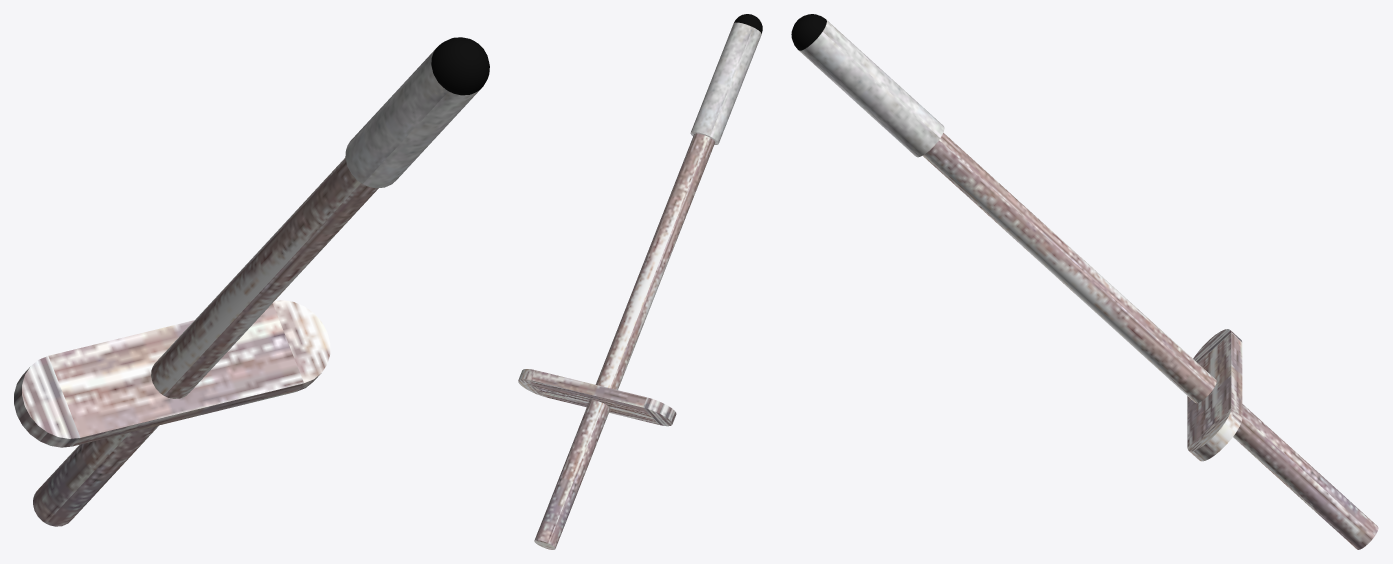
File: LeverHandle.obj
3 renders of one model, left to right at view 1: azimuth 30°, elevation 25°; view 2: azimuth 150°, elevation 25°; view 3: azimuth 270°, elevation 25°, orthographic. The views are drawn at different scales.
Parts seen in each view (by area): view 1: Part3, Part4, Part2, Union2, Union1, Part1; view 2: Part3, Part2, Part4, Union2, Union1; view 3: Part3, Part2, Part4, Union1, Part1.
Boxes of the visible parts, x1=… form: Part3: x1=33, y1=158, x2=378, y2=526; Part4: x1=48, y1=303, x2=303, y2=446; Part2: x1=345, y1=49, x2=481, y2=188; Union2: x1=14, y1=356, x2=80, y2=447; Union1: x1=272, y1=300, x2=330, y2=391; Part1: x1=431, y1=37, x2=489, y2=95; Part3: x1=534, y1=133, x2=715, y2=549; Part2: x1=690, y1=22, x2=761, y2=144; Part4: x1=531, y1=370, x2=658, y2=424; Union2: x1=643, y1=397, x2=676, y2=426; Union1: x1=518, y1=369, x2=546, y2=397; Part3: x1=922, y1=133, x2=1378, y2=549; Part2: x1=799, y1=20, x2=944, y2=157; Part4: x1=1187, y1=333, x2=1242, y2=446; Union1: x1=1187, y1=408, x2=1242, y2=461; Part1: x1=791, y1=14, x2=826, y2=50.
Size of the model in its own units: 0.575 by 1.41 by 1.41.
